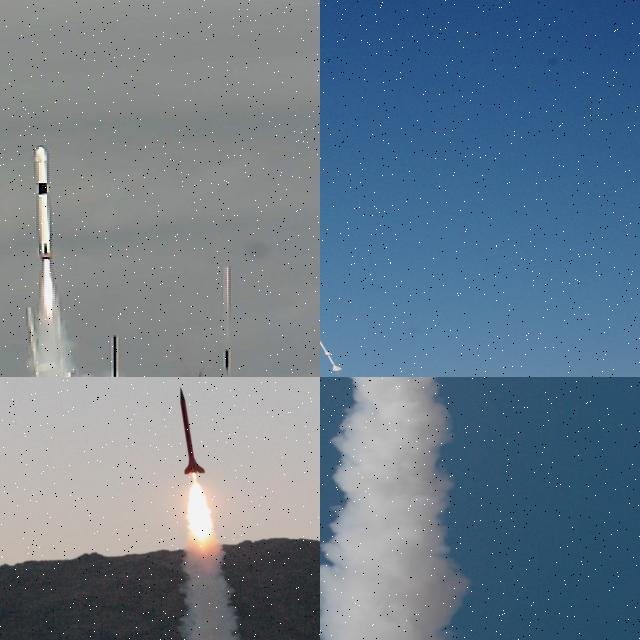Rocket: (32, 144, 54, 260), (179, 386, 206, 474), (320, 332, 343, 373)
